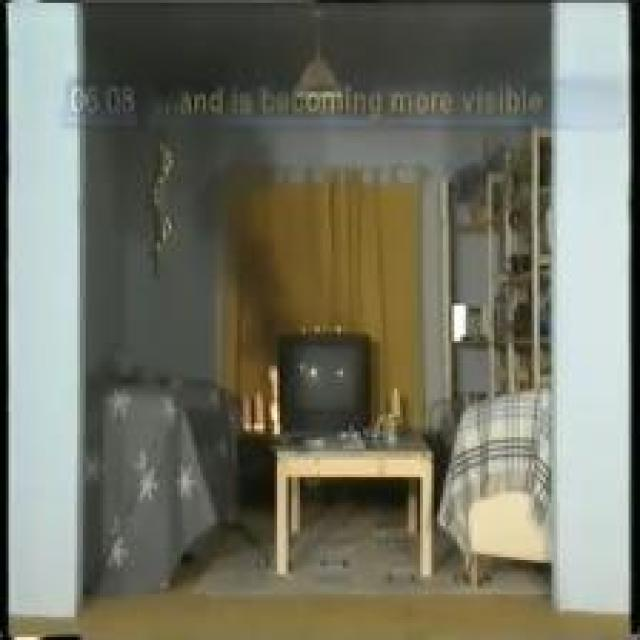smoke: (208, 178, 283, 326)
